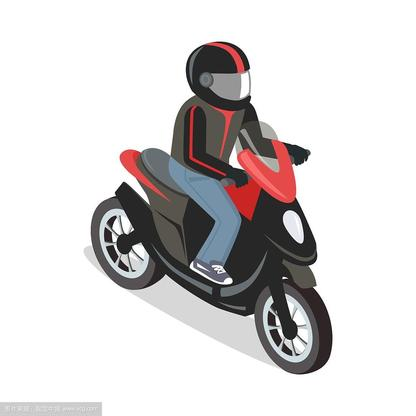target: (88, 37, 335, 374)
